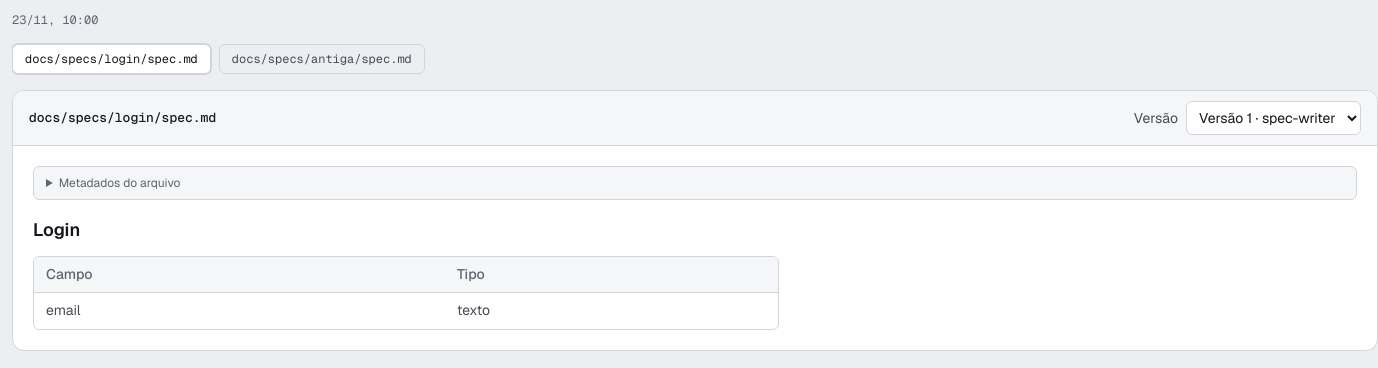
SpecStage › lets the person switch between captured specs and hides Gerar tarefas when it cannot generate
Step 1. Click the button "docs/specs/antiga/spec.md" → (322, 59), box [219,44,425,74]
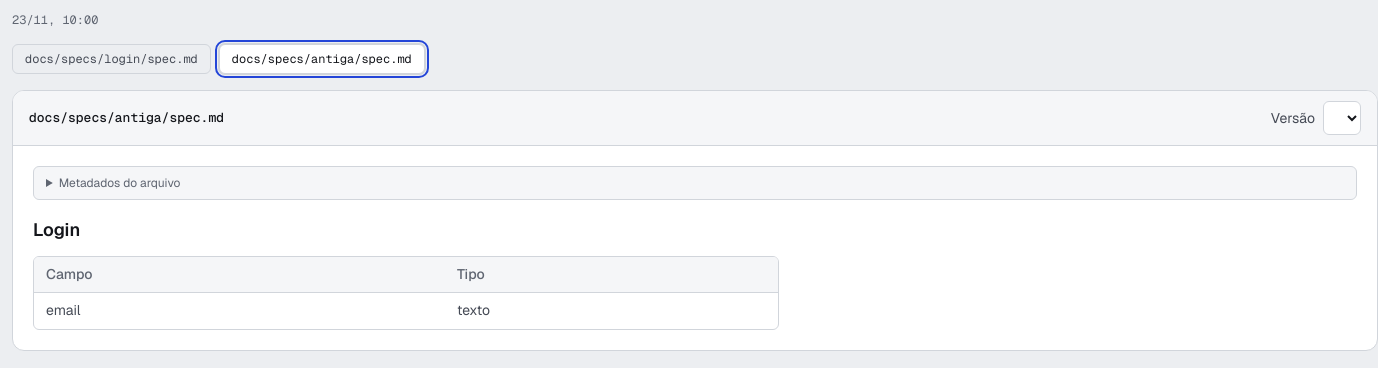
Check: the heading "docs/specs/antiga/spec.md" is shown, box [29,108,224,128]
